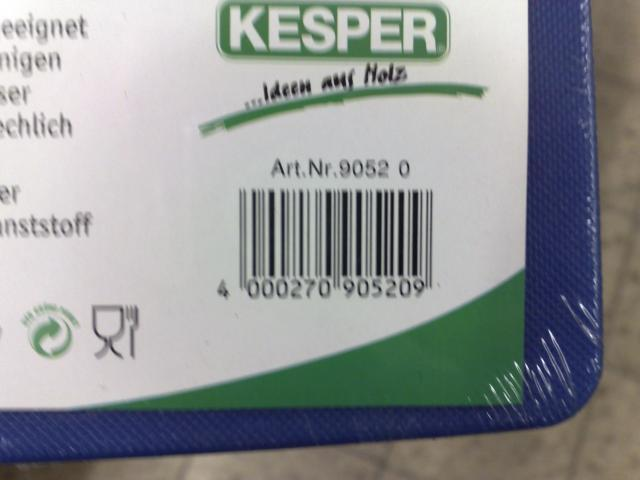Barcode: (208, 178, 451, 308)
